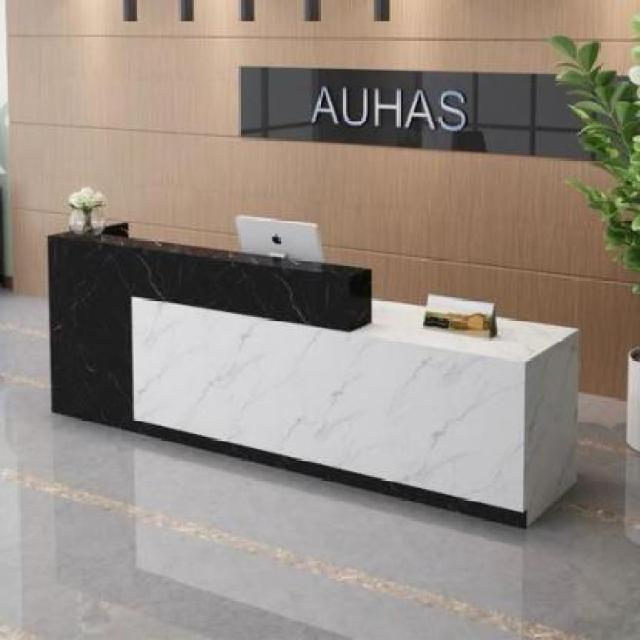frontdesk: (34, 202, 584, 538)
